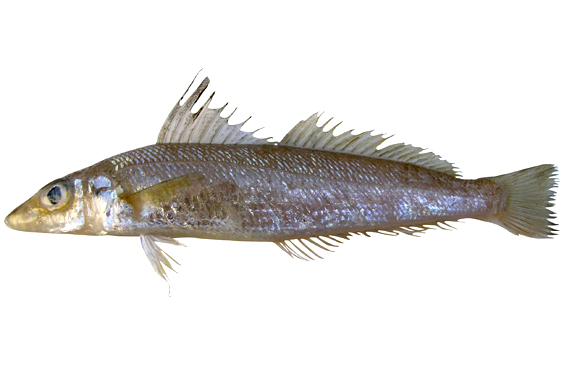kiss: (9, 133, 561, 273)
